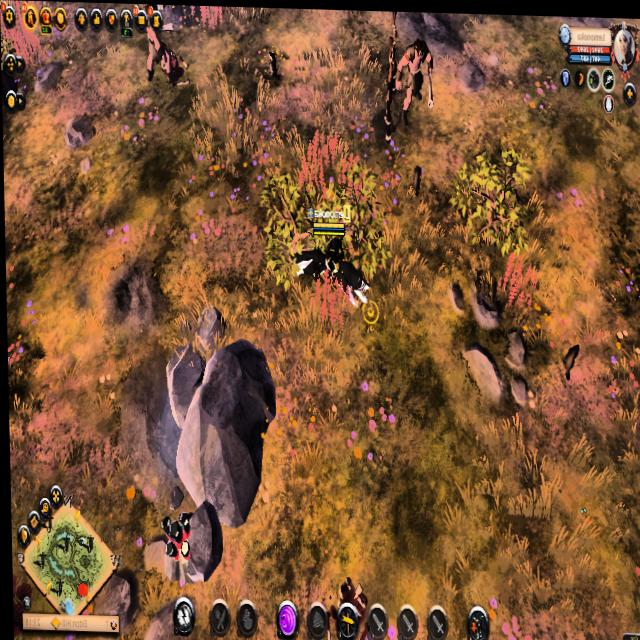ore tier 5: (157, 503, 200, 585)
